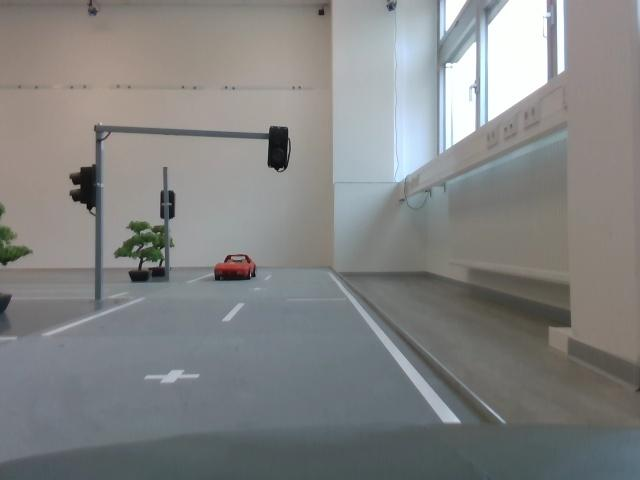car: (210, 253, 260, 289)
potted plant: (1, 186, 41, 294), (114, 222, 156, 289), (150, 225, 176, 280)
traffic light: (269, 123, 295, 180), (72, 165, 99, 213), (158, 191, 183, 219)
